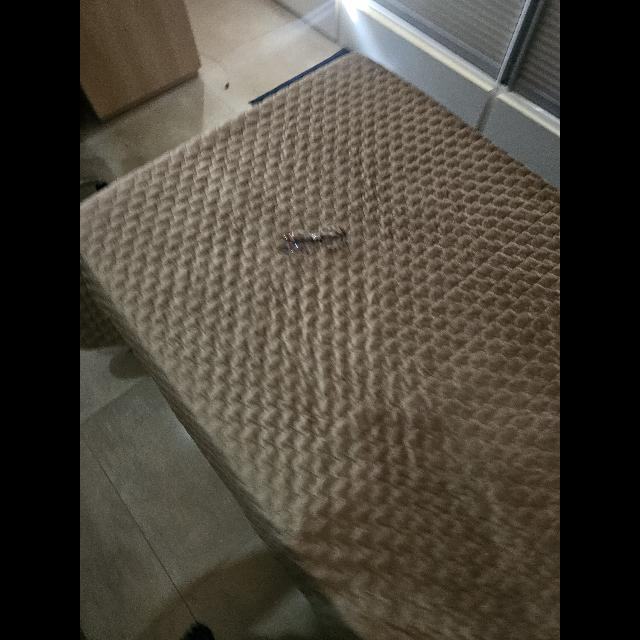glasses: (284, 228, 346, 252)
